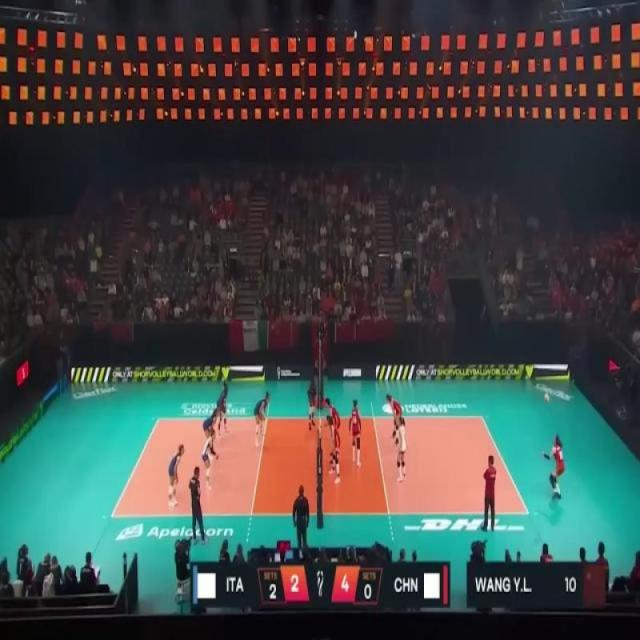volleyball: (544, 392, 550, 404)
